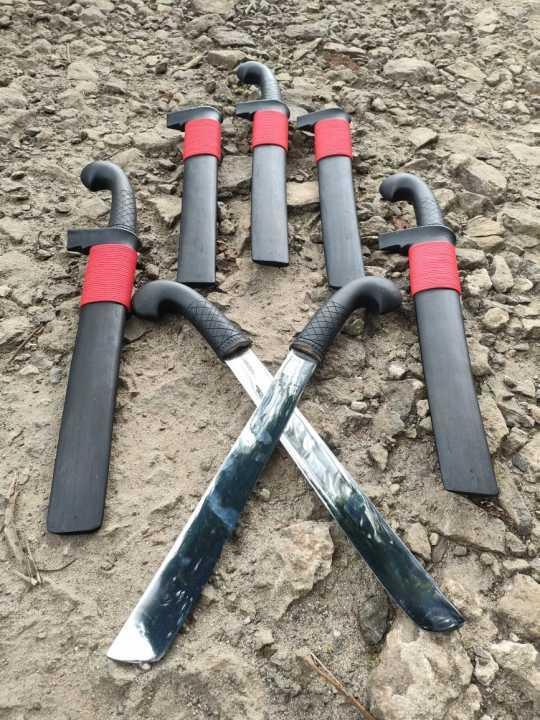facao: (96, 269, 396, 668), (140, 279, 460, 637), (388, 180, 504, 484), (48, 159, 126, 547), (232, 52, 294, 264)
